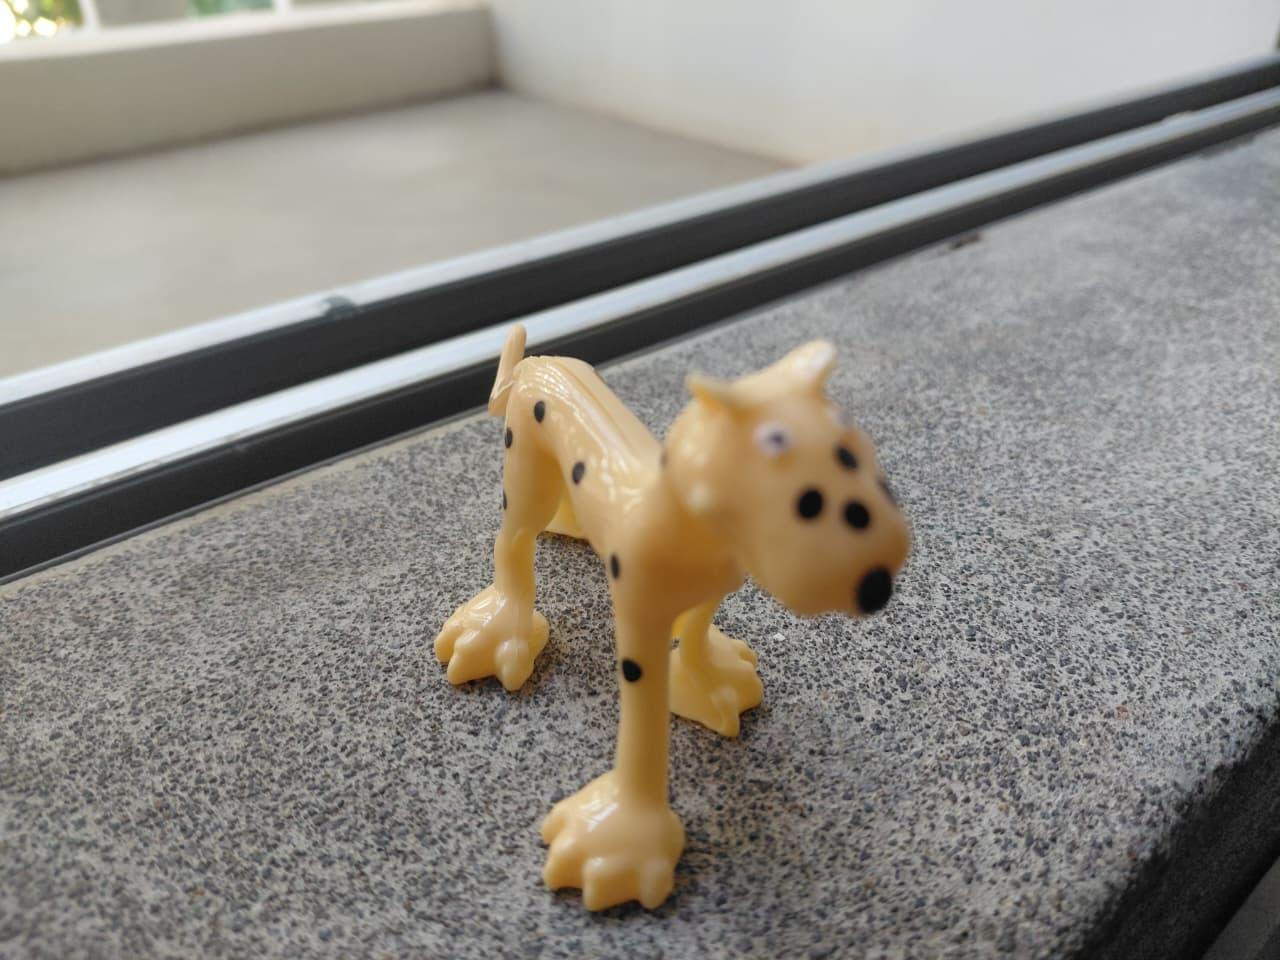cheetah: (409, 284, 934, 913)
